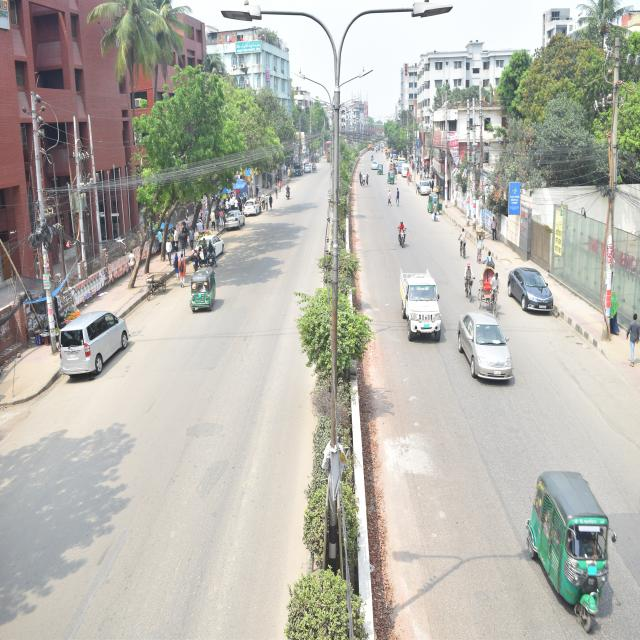car: (458, 305, 514, 377), (506, 268, 556, 314), (185, 215, 219, 253), (218, 196, 245, 227), (248, 190, 261, 222)
microbus: (43, 300, 136, 378)
motorbike: (394, 219, 411, 241), (281, 175, 297, 195)
pickup-van: (396, 275, 453, 346)
